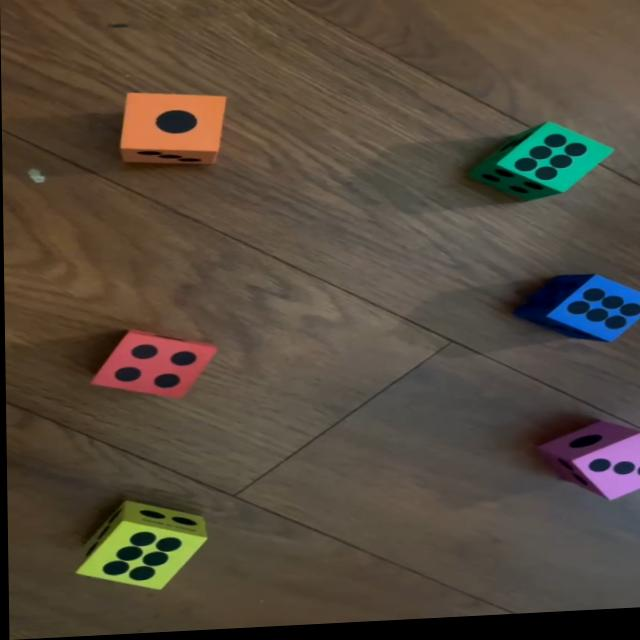blue_block: (519, 279, 640, 350)
red_block: (85, 327, 216, 404)
